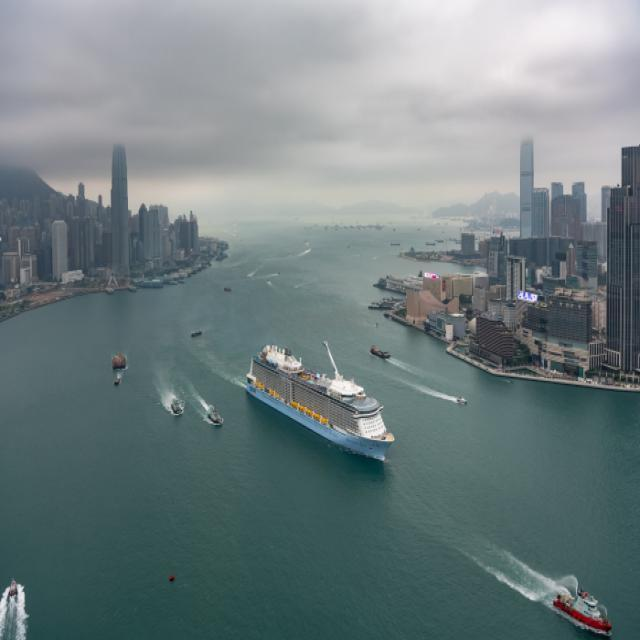ship: (245, 340, 397, 468), (551, 588, 618, 639), (202, 404, 225, 426), (368, 344, 392, 363), (170, 396, 186, 417), (112, 354, 126, 368), (191, 328, 203, 338), (457, 394, 467, 406), (222, 286, 234, 294), (390, 240, 400, 247), (112, 378, 120, 386), (425, 242, 436, 246), (436, 238, 444, 242)
